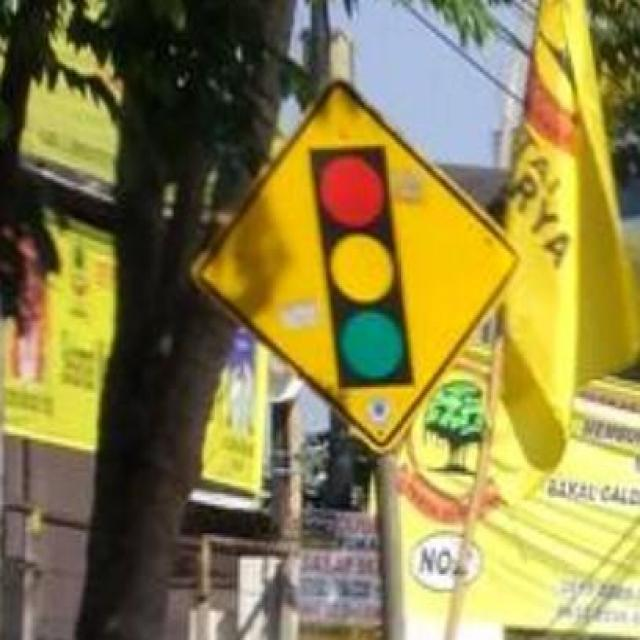traffic sign: (212, 82, 521, 444)
